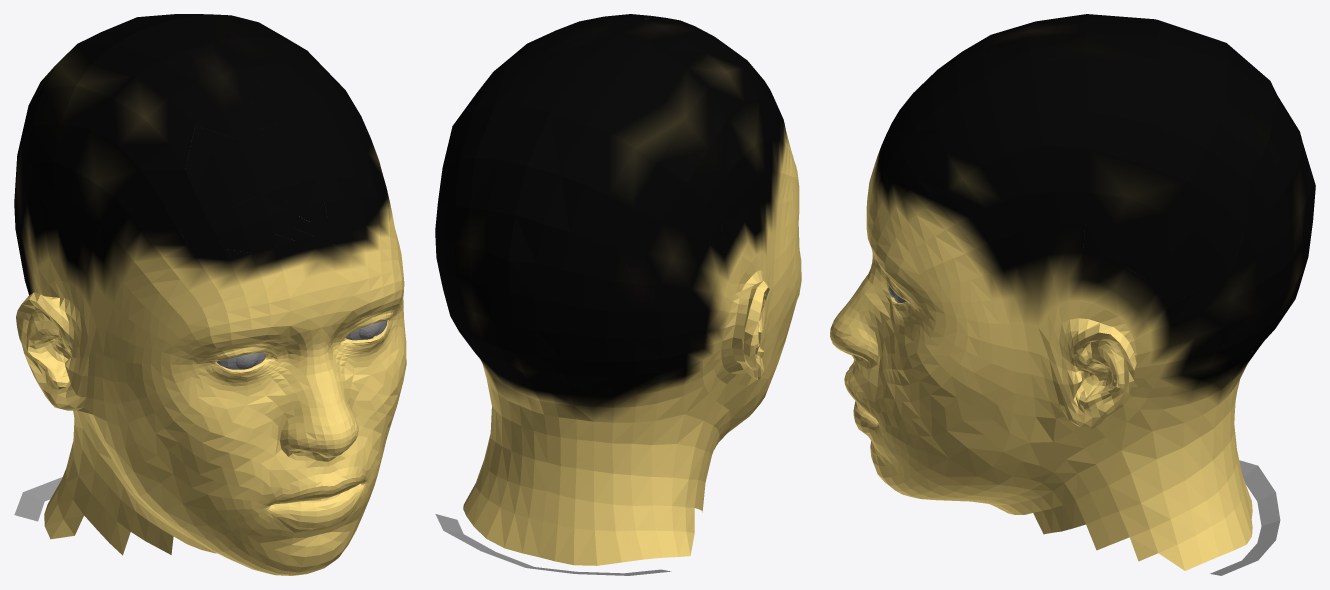
File: head.dae
3 renders of one model, left to right at view 1: azimuth 30°, elevation 25°; view 2: azimuth 150°, elevation 25°; view 3: azimuth 270°, elevation 25°, orthographic. The views are drawn at different scales.
Visible parts, largest first — view 1: node; view 2: node; view 3: node.
Part boxes in pixels (x1,y1,x2,y2): node: (14,14,406,575); node: (435,14,801,575); node: (830,14,1315,575).
Bounding box in the file's own units: 0.167 × 0.2333 × 0.2082.
Materials: 1 (1 with a texture image).
